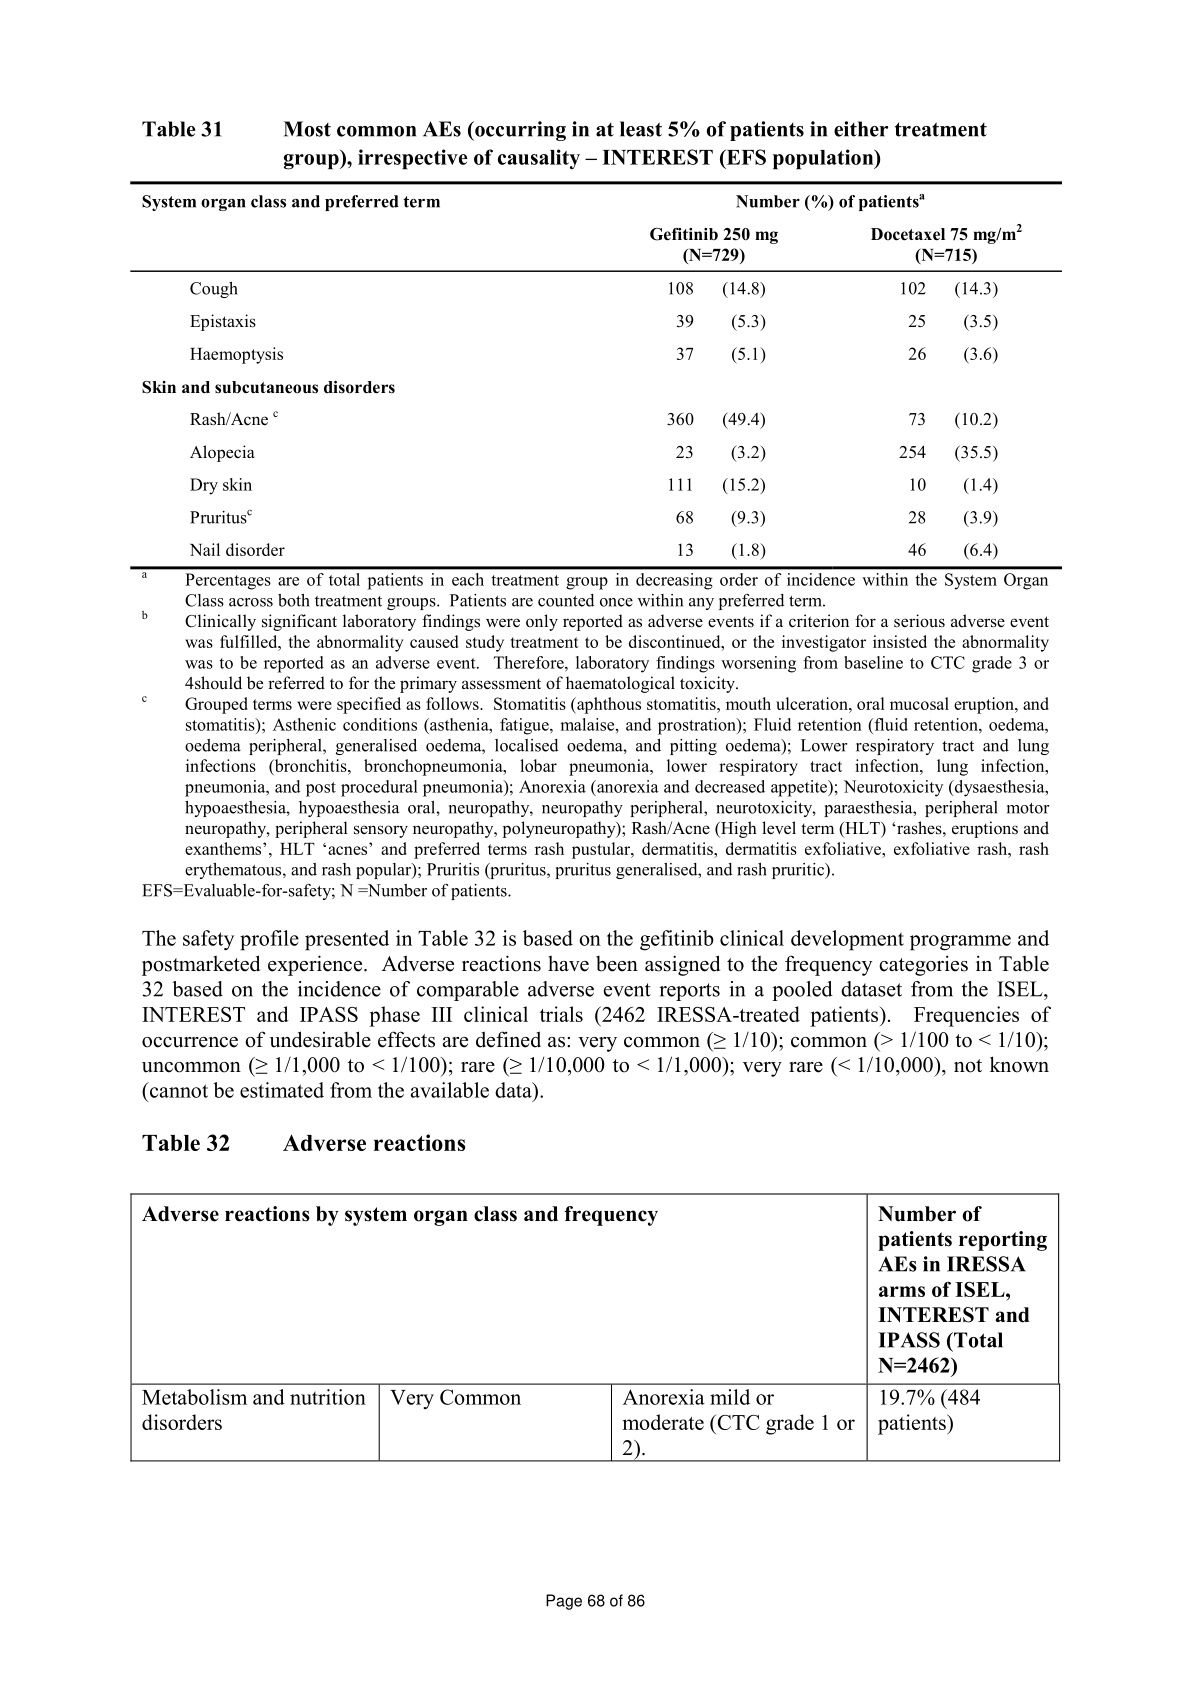merged_cells: (125, 1187, 1066, 1468)
partial_lined: (118, 175, 1072, 573)
